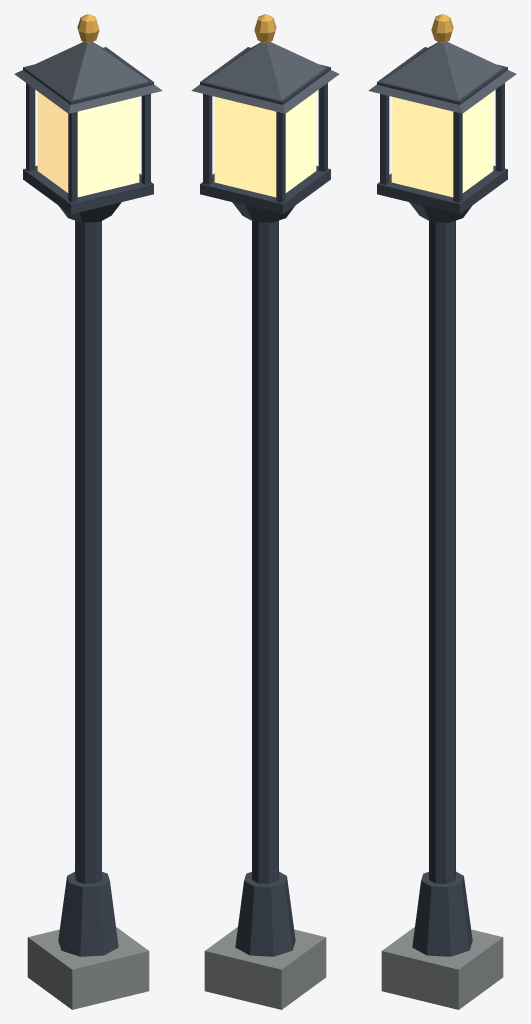
Rendered from prop_street_lamp.glb.
3 views of the same model, side by side, from view 1: azimuth 30°, elevation 25°; view 2: azimuth 150°, elevation 25°; view 3: azimuth 330°, elevation 25° (orthographic).
Visible parts, largest first — view 1: prop_street_lamp__Lamp mast, prop_street_lamp__Lantern illuminated panes, prop_street_lamp__Lamp foundation, prop_street_lamp__Lantern peaked roof, prop_street_lamp__Lamp stepped base, prop_street_lamp__Lantern rim 2.99, prop_street_lamp__Lantern frame -0.143 -0.143, prop_street_lamp__Lantern frame 0.143 -0.143, prop_street_lamp__Lantern rim 3.37, prop_street_lamp__Lantern frame -0.143 0.143, prop_street_lamp__Lantern lower collar, prop_street_lamp__Lantern finial; view 2: prop_street_lamp__Lamp mast, prop_street_lamp__Lantern illuminated panes, prop_street_lamp__Lamp foundation, prop_street_lamp__Lantern peaked roof, prop_street_lamp__Lamp stepped base, prop_street_lamp__Lantern rim 2.99, prop_street_lamp__Lantern frame -0.143 0.143, prop_street_lamp__Lantern frame 0.143 0.143, prop_street_lamp__Lantern rim 3.37, prop_street_lamp__Lantern frame -0.143 -0.143, prop_street_lamp__Lantern lower collar, prop_street_lamp__Lantern finial; view 3: prop_street_lamp__Lamp mast, prop_street_lamp__Lantern illuminated panes, prop_street_lamp__Lamp foundation, prop_street_lamp__Lantern peaked roof, prop_street_lamp__Lamp stepped base, prop_street_lamp__Lantern rim 2.99, prop_street_lamp__Lantern frame 0.143 -0.143, prop_street_lamp__Lantern frame -0.143 -0.143, prop_street_lamp__Lantern rim 3.37, prop_street_lamp__Lantern frame 0.143 0.143, prop_street_lamp__Lantern lower collar, prop_street_lamp__Lantern finial.
Part boxes in pixels (box(x1,y1,x2,y2)): prop_street_lamp__Lamp mast: box(75, 220, 101, 883); prop_street_lamp__Lantern illuminated panes: box(37, 91, 139, 197); prop_street_lamp__Lamp foundation: box(27, 927, 149, 1009); prop_street_lamp__Lantern peaked roof: box(14, 41, 162, 113); prop_street_lamp__Lamp stepped base: box(58, 871, 118, 956); prop_street_lamp__Lantern rim 2.99: box(23, 165, 153, 214); prop_street_lamp__Lantern frame -0.143 -0.143: box(68, 111, 77, 202); prop_street_lamp__Lantern frame 0.143 -0.143: box(141, 94, 150, 184); prop_street_lamp__Lantern rim 3.37: box(23, 47, 153, 104); prop_street_lamp__Lantern frame -0.143 0.143: box(26, 83, 35, 171); prop_street_lamp__Lantern lower collar: box(58, 202, 121, 222); prop_street_lamp__Lantern finial: box(77, 14, 99, 42); prop_street_lamp__Lamp mast: box(252, 220, 278, 883); prop_street_lamp__Lantern illuminated panes: box(214, 91, 316, 197); prop_street_lamp__Lamp foundation: box(204, 927, 326, 1009); prop_street_lamp__Lantern peaked roof: box(191, 41, 339, 113); prop_street_lamp__Lamp stepped base: box(235, 871, 295, 956); prop_street_lamp__Lantern rim 2.99: box(200, 165, 330, 214); prop_street_lamp__Lantern frame -0.143 0.143: box(276, 111, 285, 202); prop_street_lamp__Lantern frame 0.143 0.143: box(203, 94, 212, 184); prop_street_lamp__Lantern rim 3.37: box(200, 47, 330, 104); prop_street_lamp__Lantern frame -0.143 -0.143: box(318, 83, 327, 171); prop_street_lamp__Lantern lower collar: box(232, 202, 295, 222); prop_street_lamp__Lantern finial: box(254, 14, 276, 42); prop_street_lamp__Lamp mast: box(429, 220, 455, 883); prop_street_lamp__Lantern illuminated panes: box(391, 91, 493, 197); prop_street_lamp__Lamp foundation: box(381, 927, 503, 1009); prop_street_lamp__Lantern peaked roof: box(368, 41, 516, 113); prop_street_lamp__Lamp stepped base: box(412, 871, 472, 956); prop_street_lamp__Lantern rim 2.99: box(377, 165, 507, 214); prop_street_lamp__Lantern frame 0.143 -0.143: box(453, 111, 462, 202); prop_street_lamp__Lantern frame -0.143 -0.143: box(380, 94, 389, 184); prop_street_lamp__Lantern rim 3.37: box(377, 47, 507, 104); prop_street_lamp__Lantern frame 0.143 0.143: box(495, 83, 504, 171); prop_street_lamp__Lantern lower collar: box(409, 202, 472, 222); prop_street_lamp__Lantern finial: box(431, 14, 453, 42).
Size of the model in its own units: 0.3677 by 3.61 by 0.3677.
